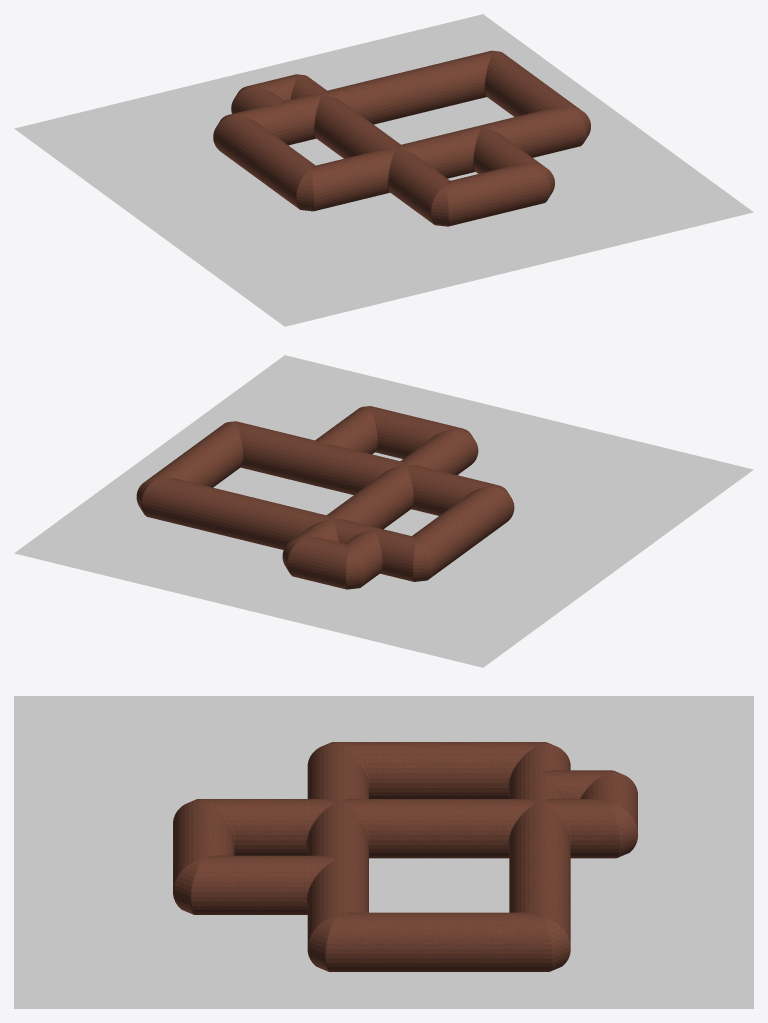
The model's file is Sewer Tile Scene.glb.
The picture shows the model from 3 angles, top to bottom: view 1: azimuth 30°, elevation 25°; view 2: azimuth 150°, elevation 25°; view 3: azimuth 270°, elevation 25°; orthographic projection. The views are drawn at different scales.
Parts seen in each view (by area): view 1: Water, Large - Corner_005 6, Large - Corner_005 7, Large - 3 Way_002, Large - Full 6, Large - Full 10, Large - Full 7, Large - Full 13, Large - Full 9, Large - Full 5, Large - Full 8, Large - Corner_005 5 (+16 smaller); view 2: Water, Large - Corner_005, Large - Corner_005 2, Large - 3 Way_002 2, Large - Full 8, Large - Full 7, Large - Full 6, Large - Full 5, Large - Full 10, Large - Full 9, Large - Full 13, Large - Corner_005 4 (+16 smaller); view 3: Water, Large - Corner_005 3, Large - Corner_005 8, Large - Corner_005 4, Large - Corner_005 5, Large - Full 12, Large - Full, Large - Full 2, Large - Full 14, Large - Full 15, Large - Full 3, Large - Full 4 (+16 smaller).
Boxes of the visible parts, x1,y1,x2,y2 form: Water: [14, 14, 753, 326]; Large - Corner_005 6: [279, 160, 343, 211]; Large - Corner_005 7: [414, 175, 478, 226]; Large - 3 Way_002: [251, 95, 312, 145]; Large - Full 6: [381, 67, 440, 119]; Large - Full 10: [329, 152, 386, 204]; Large - Full 7: [425, 56, 482, 108]; Large - Full 13: [463, 167, 520, 219]; Large - Full 9: [413, 131, 471, 178]; Large - Full 5: [339, 77, 397, 124]; Large - Full 8: [498, 110, 556, 157]; Large - Corner_005 5: [538, 97, 590, 152]; Water: [14, 355, 753, 667]; Large - Corner_005: [384, 530, 448, 581]; Large - Corner_005 2: [316, 538, 380, 589]; Large - 3 Way_002 2: [287, 435, 347, 489]; Large - Full 8: [244, 427, 302, 479]; Large - Full 7: [170, 481, 228, 533]; Large - Full 6: [213, 491, 270, 543]; Large - Full 5: [256, 502, 314, 549]; Large - Full 10: [415, 469, 473, 515]; Large - Full 9: [330, 448, 388, 494]; Large - Full 13: [379, 412, 436, 458]; Large - Corner_005 4: [136, 468, 188, 523]; Water: [14, 696, 753, 1008]; Large - Corner_005 3: [573, 787, 637, 858]; Large - Corner_005 8: [173, 844, 237, 914]; Large - Corner_005 4: [506, 901, 570, 971]; Large - Corner_005 5: [307, 901, 371, 971]; Large - Full 12: [237, 855, 304, 914]; Large - Full: [372, 799, 439, 858]; Large - Full 2: [439, 799, 506, 858]; Large - Full 14: [372, 912, 439, 971]; Large - Full 15: [439, 912, 506, 971]; Large - Full 3: [439, 742, 506, 798]; Large - Full 4: [372, 742, 439, 798].
Size of the model in its own units: 66 by 4.72 by 66.
2 materials, 1 textured.
